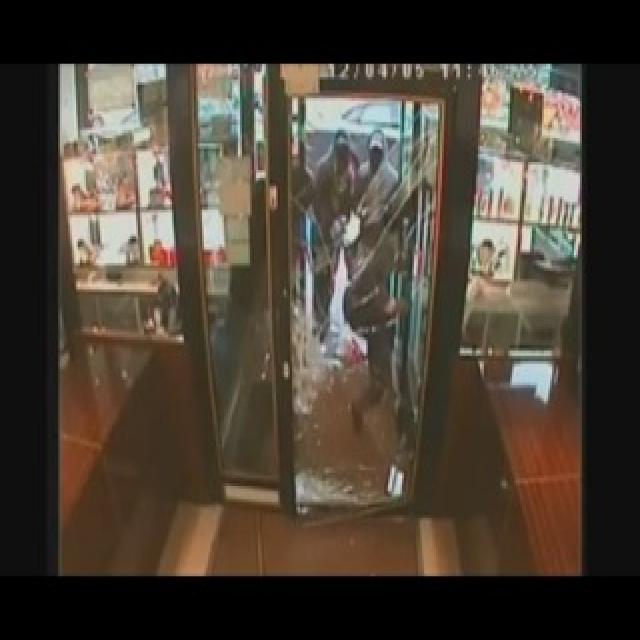burglary: (281, 153, 431, 425)
